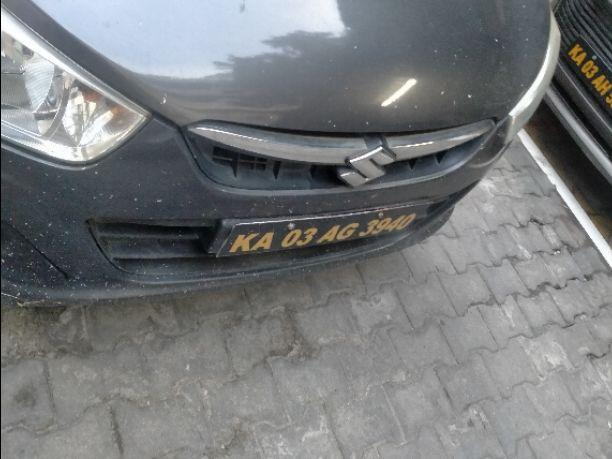license_plate: (0, 0, 563, 306), (214, 206, 420, 259)
